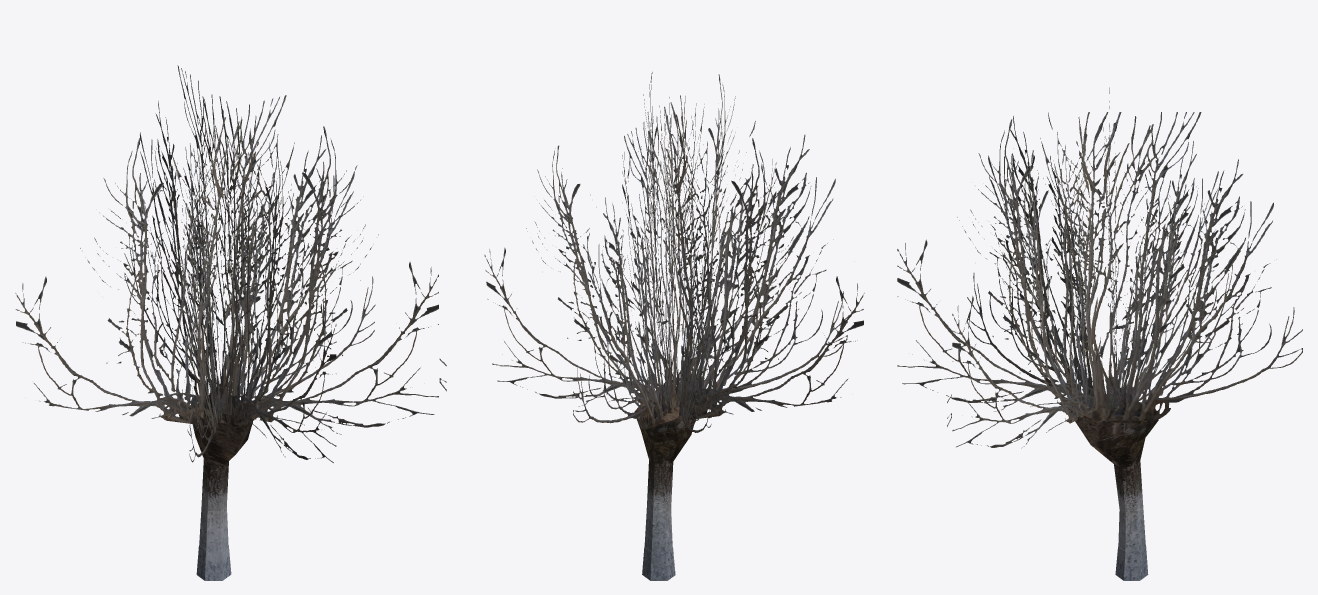
The model's file is Arbol-pelon.fbx.
The picture shows the model from 3 angles, left to right: view 1: azimuth 30°, elevation 25°; view 2: azimuth 150°, elevation 25°; view 3: azimuth 270°, elevation 25°; orthographic projection. The views are drawn at different scales.
Visible parts, largest first — view 1: ArbolVisual, base; view 2: ArbolVisual, base; view 3: ArbolVisual, base.
Part boxes in pixels (left/top/right/bottom): ArbolVisual: left=15, top=65, right=446, bottom=550; base: left=196, top=545, right=231, bottom=580; ArbolVisual: left=484, top=72, right=864, bottom=551; base: left=642, top=546, right=675, bottom=580; ArbolVisual: left=897, top=87, right=1302, bottom=551; base: left=1115, top=546, right=1148, bottom=580.
Bounding box in the file's own units: 894 × 1127 × 894.
